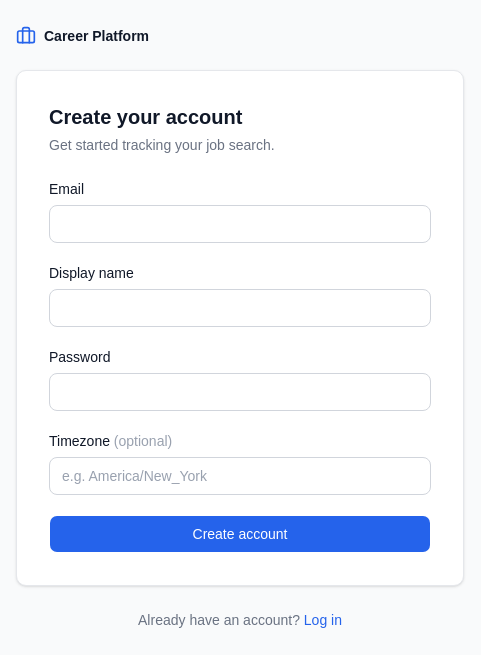
it: RegisterPage › shows a client-side validation error and does not submit when email is missing
Type "Ada Lovelace" into the field labelled "Display name" at (240, 308), box 49,289 -> 431,327
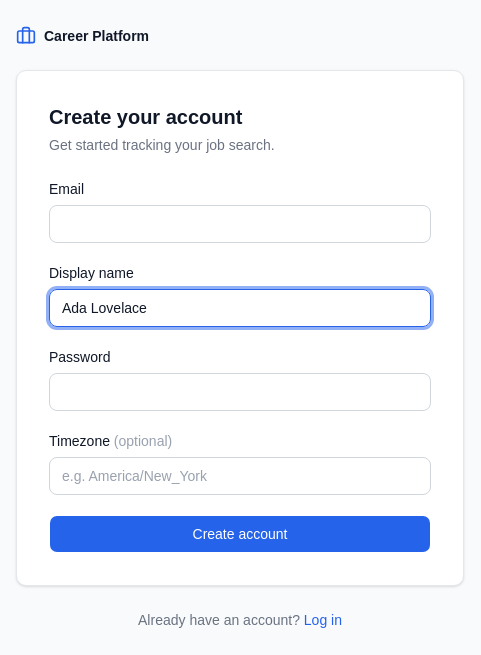
Type "correct-password-123" into the password field labelled "Password" at (240, 392), box 49,373 -> 431,411
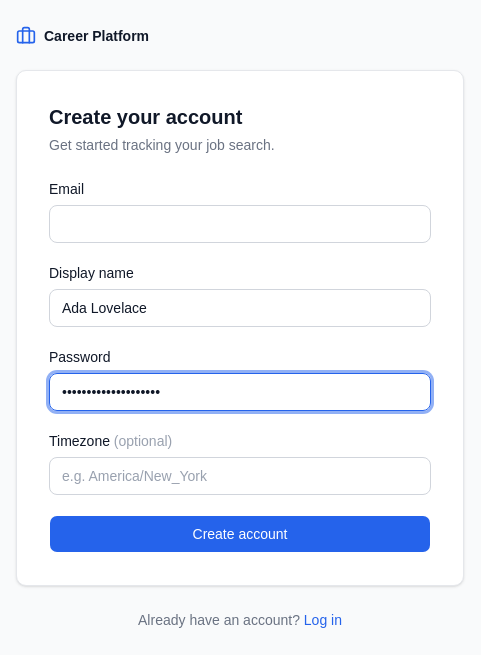
Click the button "Create account" at (240, 534), box 49,515 -> 431,553
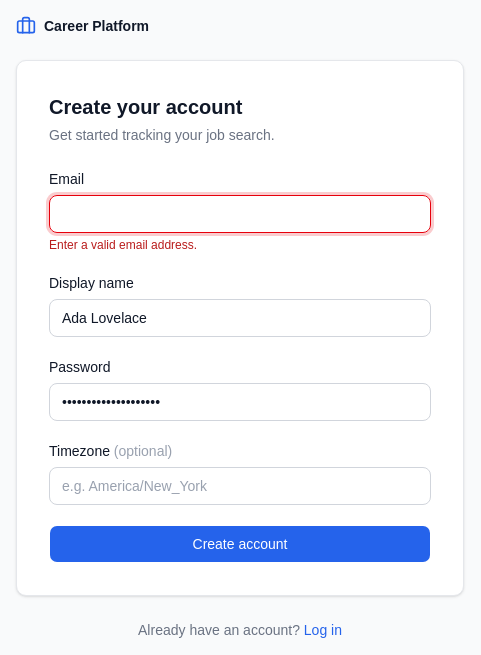
Expected: the text "Enter a valid email address." is shown, 49,238 -> 197,252
